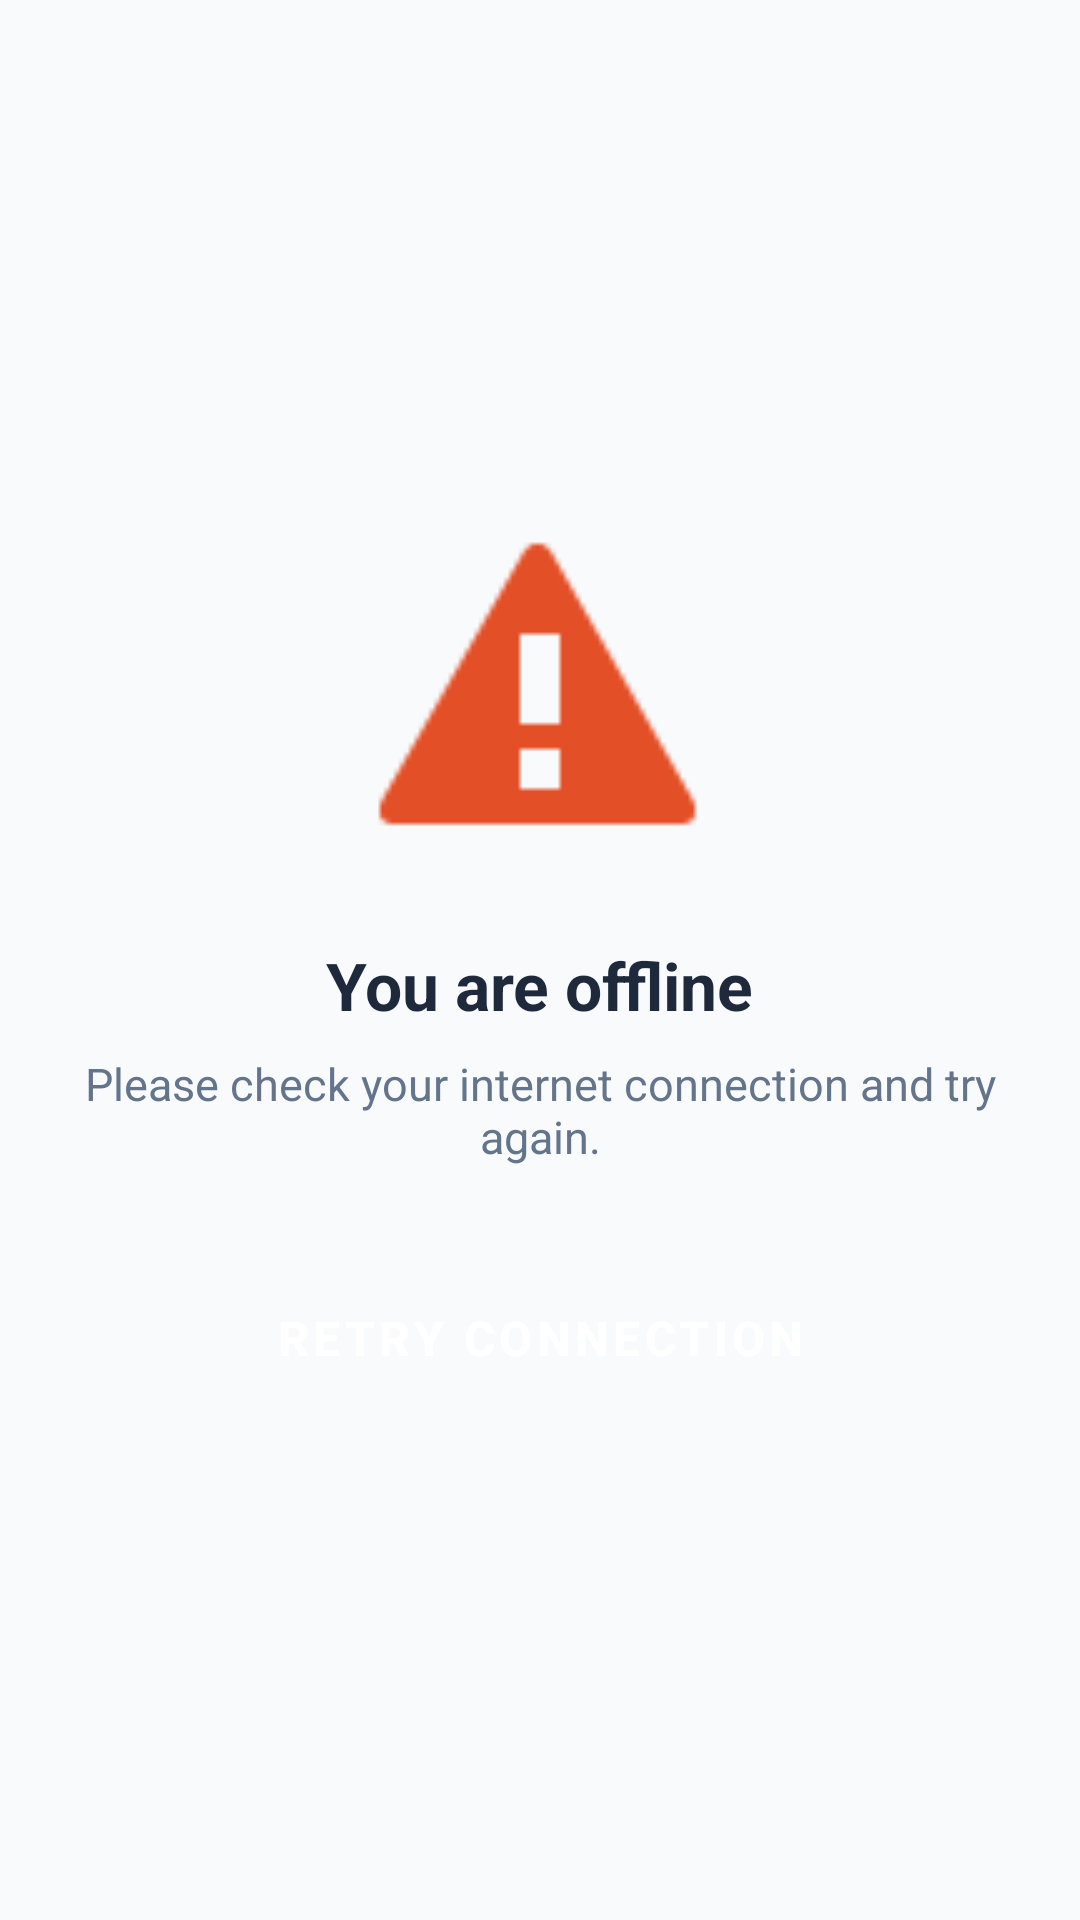

Screen size 1080px×1920px. Icon name, then its box in pixels as (x1, y1, x2, y2):
warning: (378, 542, 697, 826)
